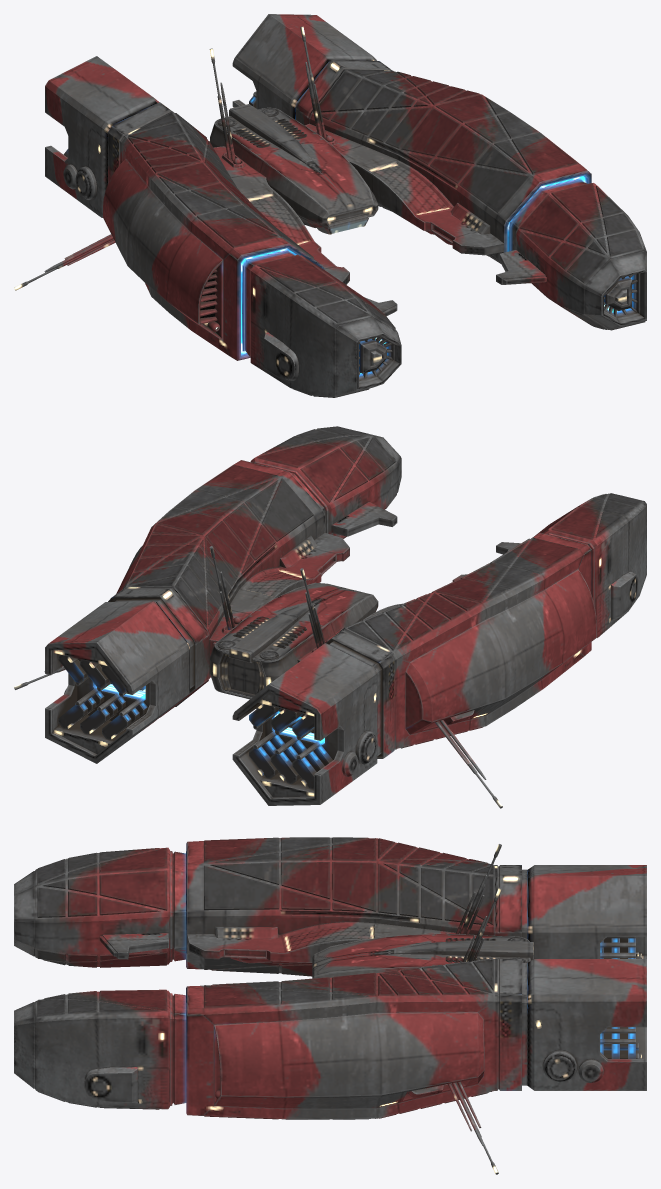
3 renders of one model, top to bottom at view 1: azimuth 30°, elevation 25°; view 2: azimuth 150°, elevation 25°; view 3: azimuth 270°, elevation 25°, orthographic.
Visible parts, largest first — view 1: Clipper_v2_low; view 2: Clipper_v2_low; view 3: Clipper_v2_low.
Boxes of the visible parts, <box> form: Clipper_v2_low: <box>14,14,646,397</box>; Clipper_v2_low: <box>14,426,646,808</box>; Clipper_v2_low: <box>14,837,646,1174</box>.
Bounding box in the file's own units: 6.75 × 2.55 × 7.64.
1 material, 1 textured.
